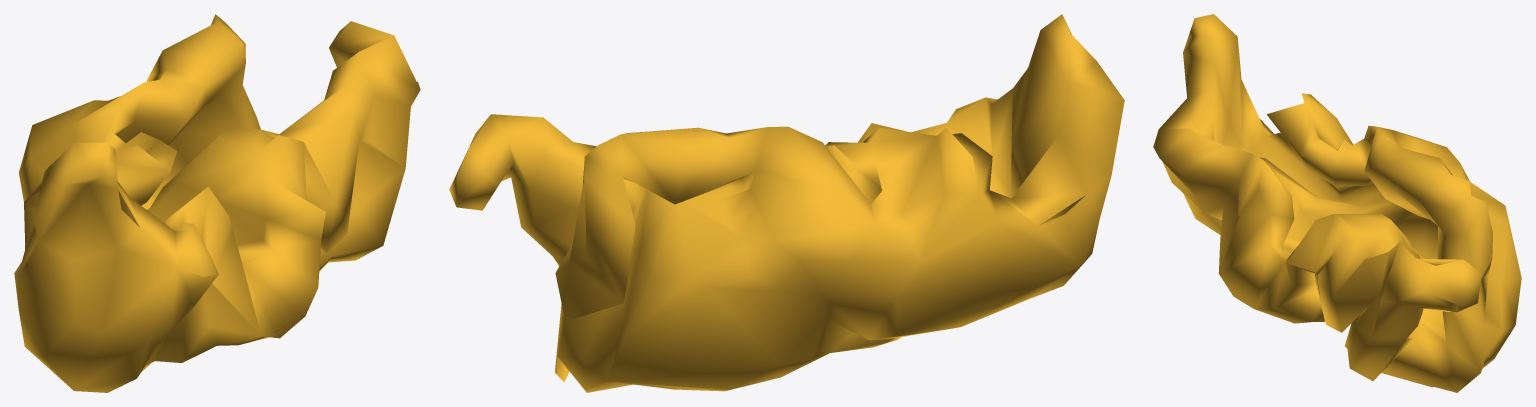
Rendered from nervoso-inferior-occipital-gyrus-and-sulcus-r.glb.
3 renders of one model, left to right at view 1: azimuth 30°, elevation 25°; view 2: azimuth 150°, elevation 25°; view 3: azimuth 270°, elevation 25°, orthographic. The views are drawn at different scales.
Visible parts, largest first — view 1: Inferior occipital gyrus and sulcus*.r; view 2: Inferior occipital gyrus and sulcus*.r; view 3: Inferior occipital gyrus and sulcus*.r.
Boxes of the visible parts, x1=… form: Inferior occipital gyrus and sulcus*.r: x1=14, y1=14, x2=420, y2=392; Inferior occipital gyrus and sulcus*.r: x1=449, y1=14, x2=1124, y2=392; Inferior occipital gyrus and sulcus*.r: x1=1153, y1=14, x2=1521, y2=392.
Size of the model in its own units: 0.0399 by 0.0237 by 0.0315.
